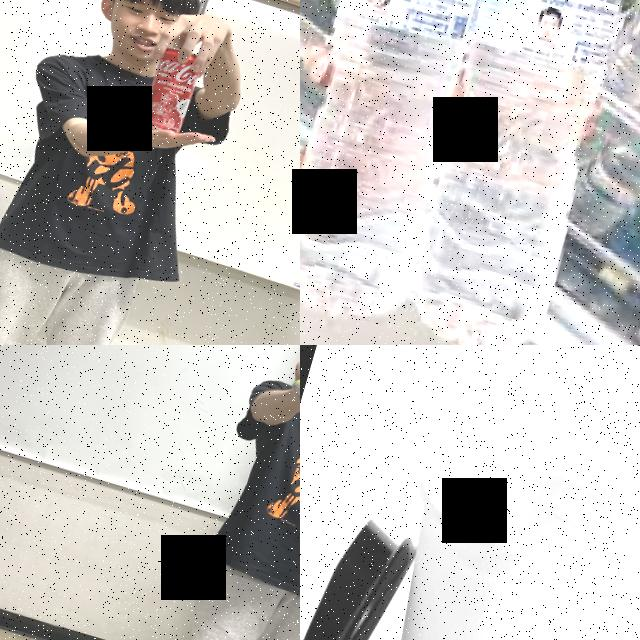bottle: (381, 0, 640, 345), (300, 0, 548, 334)
can: (138, 42, 206, 139)
cup: (311, 432, 625, 640)
